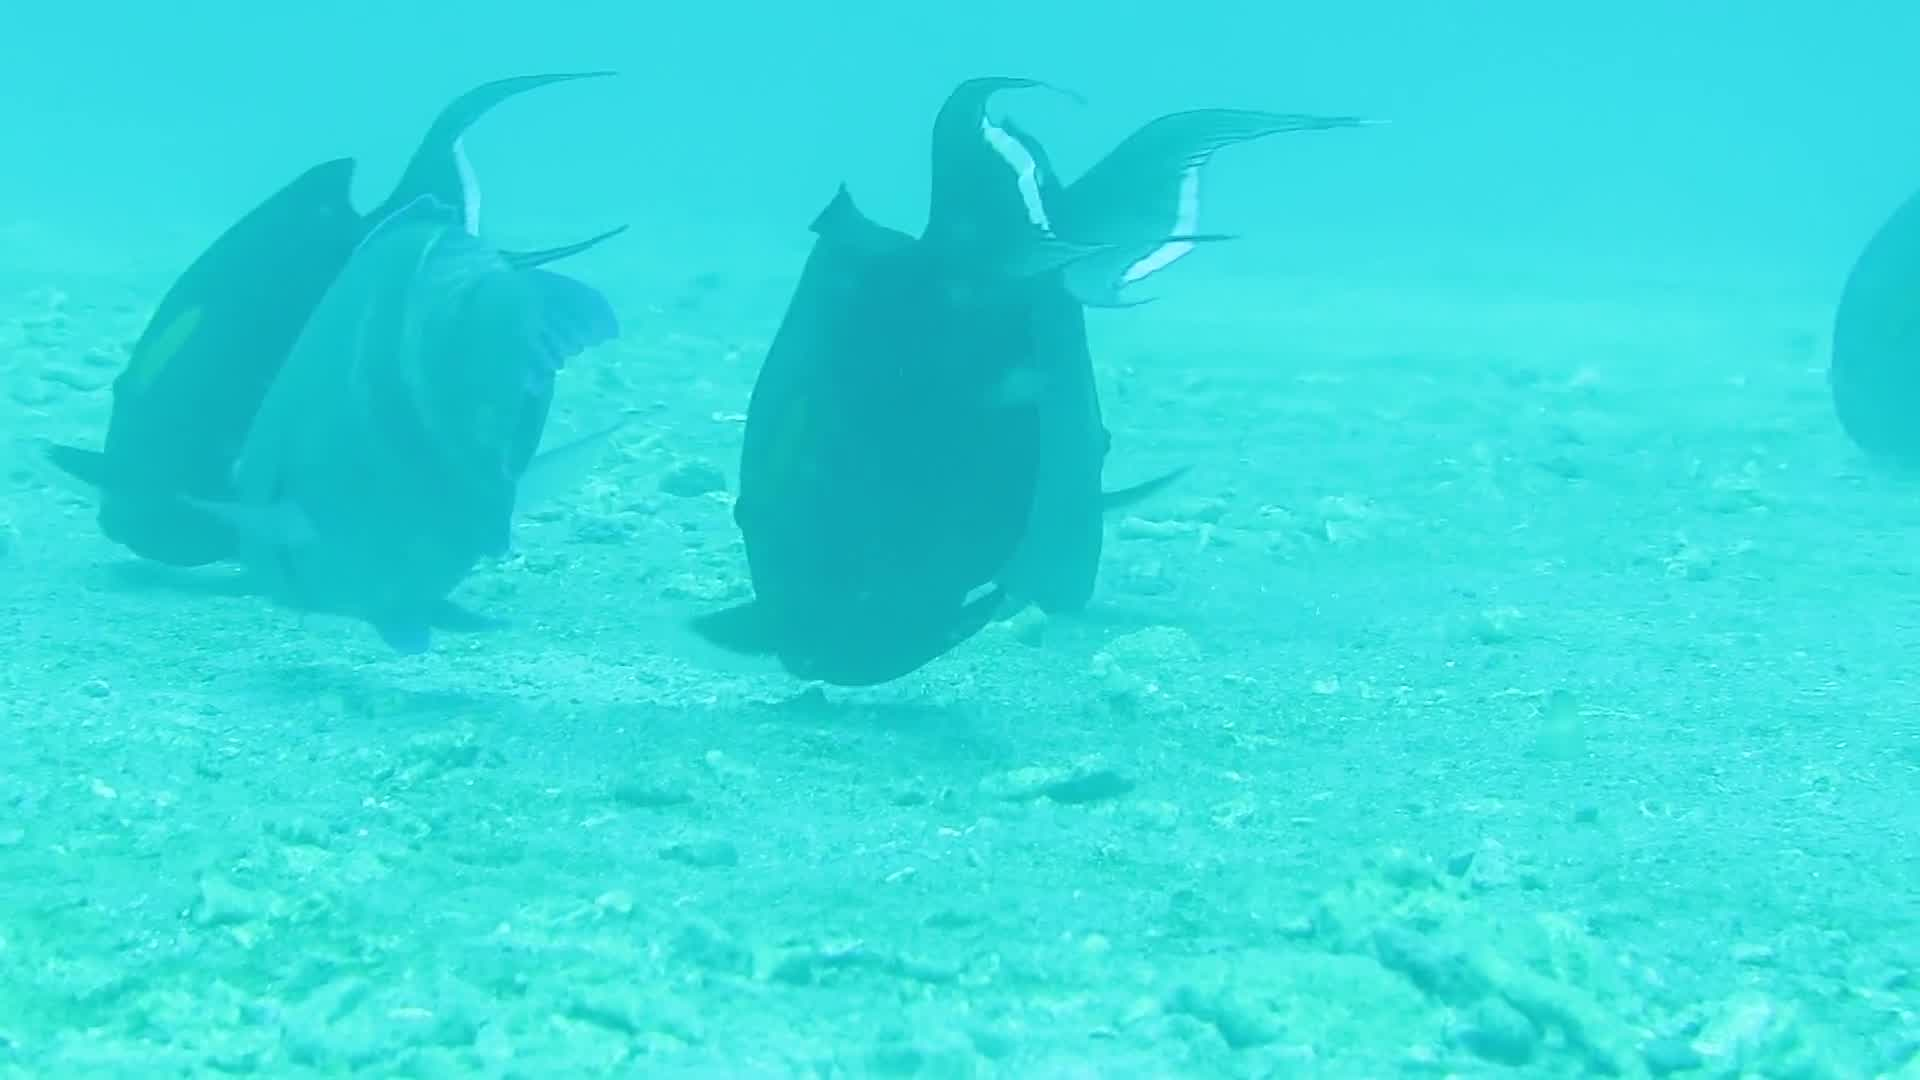Acanthurus olivaceus: (709, 113, 1200, 713), (280, 181, 607, 678), (47, 116, 375, 613)
